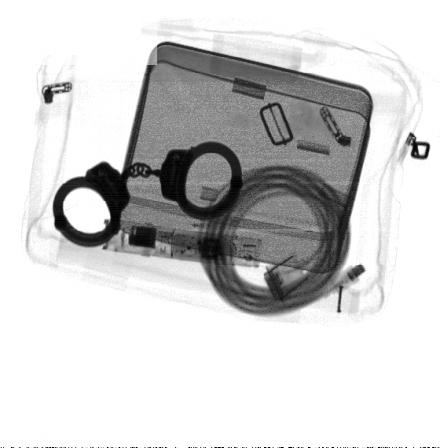Baton: (101, 217, 264, 270)
HandCuffs: (52, 140, 244, 248)
